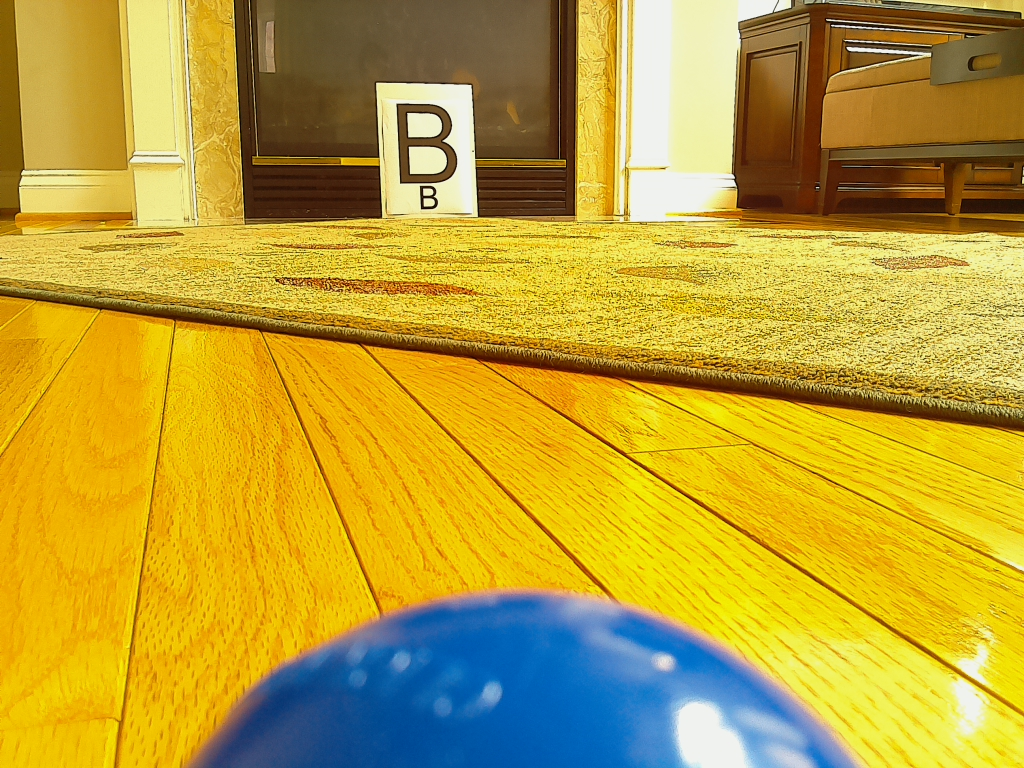letter: (399, 105, 458, 183)
